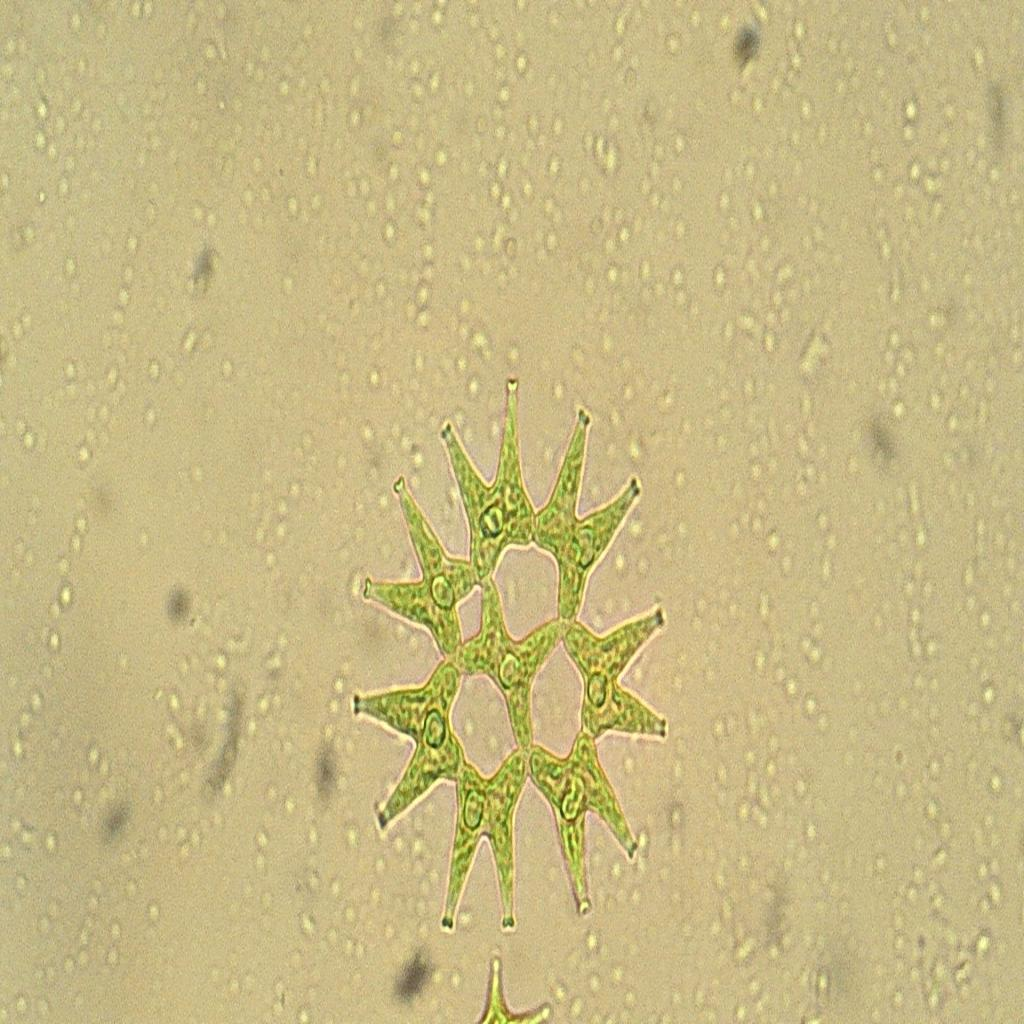Pediastrum_CTH: (332, 371, 677, 956)
